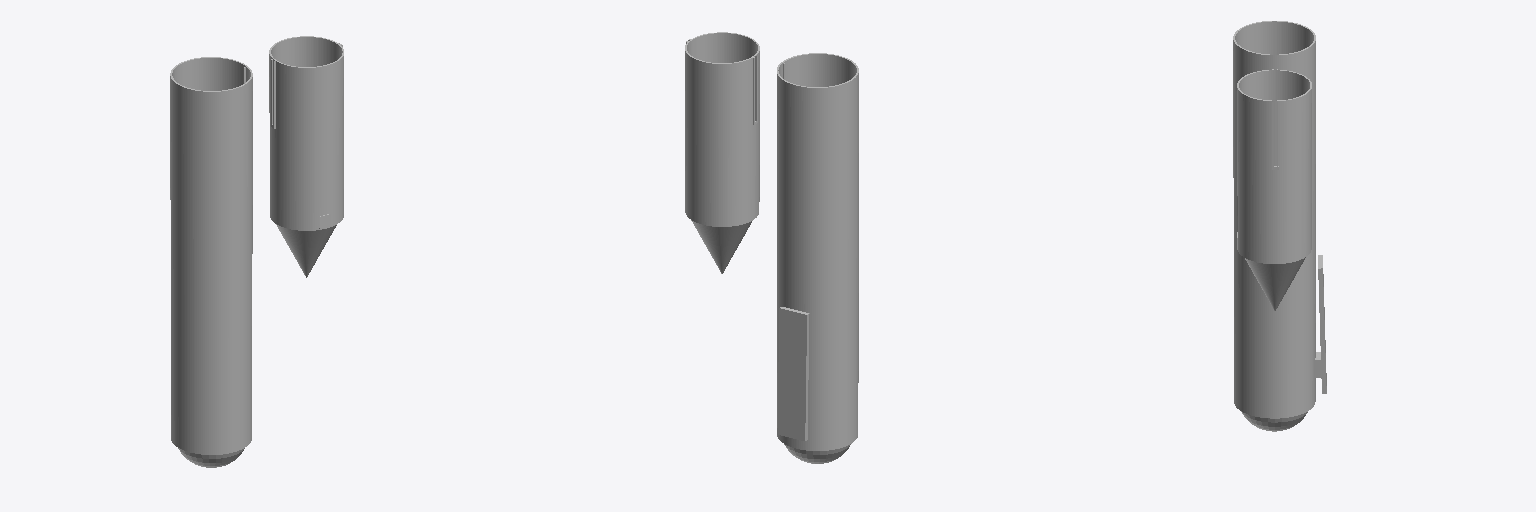
Rendered from lapiz.obj.
3 views of the same model, side by side, from view 1: azimuth 30°, elevation 25°; view 2: azimuth 150°, elevation 25°; view 3: azimuth 270°, elevation 25° (orthographic).
Visible parts, largest first — view 1: Cilindro.001, Cilindro, Cono_Cono.001, Esfera; view 2: Cilindro.001, Cilindro, Cubo.010_Cubo.015, Cono_Cono.001, Esfera; view 3: Cilindro.001, Cilindro, Cono_Cono.001, Cubo.010_Cubo.015, Esfera.
Boxes of the visible parts, <box> form: Cilindro.001: <box>170,57,252,454</box>; Cilindro: <box>269,36,343,230</box>; Cono_Cono.001: <box>276,224,336,277</box>; Esfera: <box>178,448,244,467</box>; Cilindro.001: <box>777,53,858,450</box>; Cilindro: <box>685,32,759,226</box>; Cubo.010_Cubo.015: <box>777,307,809,440</box>; Cono_Cono.001: <box>691,220,751,273</box>; Esfera: <box>784,444,850,463</box>; Cilindro.001: <box>1233,21,1315,418</box>; Cilindro: <box>1237,70,1311,263</box>; Cono_Cono.001: <box>1245,257,1305,310</box>; Cubo.010_Cubo.015: <box>1318,255,1326,393</box>; Esfera: <box>1241,411,1307,431</box>.
Bounding box in the file's own units: 0.0534 × 0.1203 × 0.0261.